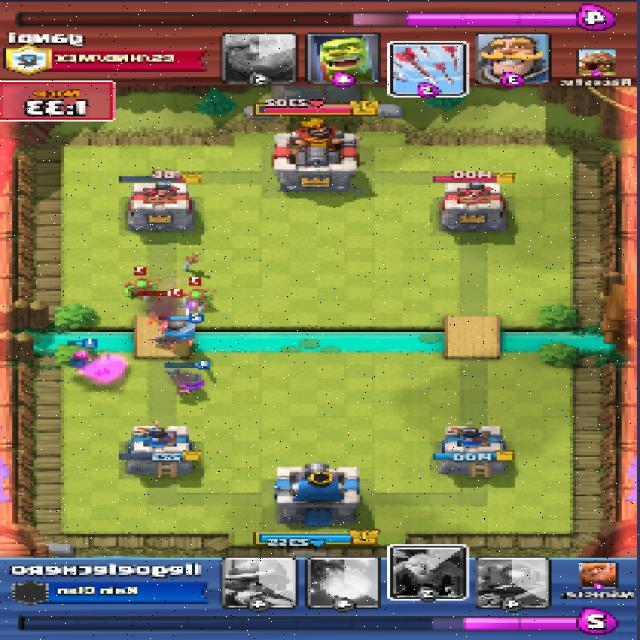Enemy-Musketeer: (144, 297, 182, 320)
Enemy-SpearGoblin: (121, 275, 152, 299), (182, 288, 212, 308)
Player-Archer: (62, 350, 96, 367)
Player-Knight: (152, 318, 201, 348)
Player-Musketeer: (166, 365, 209, 394)
